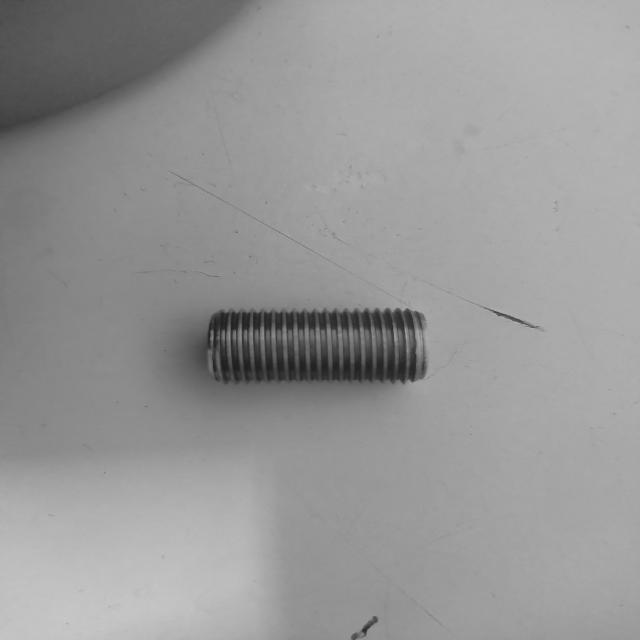Normal: (205, 306, 430, 387)
